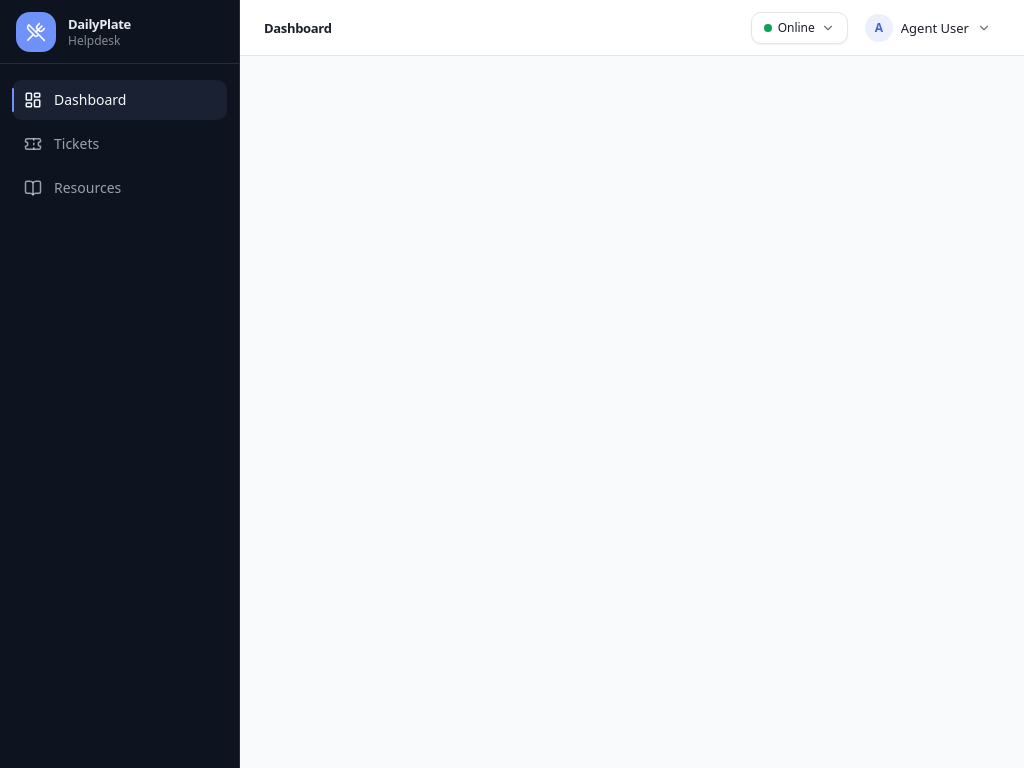
Test: AppShell › agent availability › opens a selectable status menu without Offline
What coordinates should you click on to do the following:
click the button with aria-label "availability:"
I would click on:
 (799, 28)
Its box is [751, 12, 848, 44].
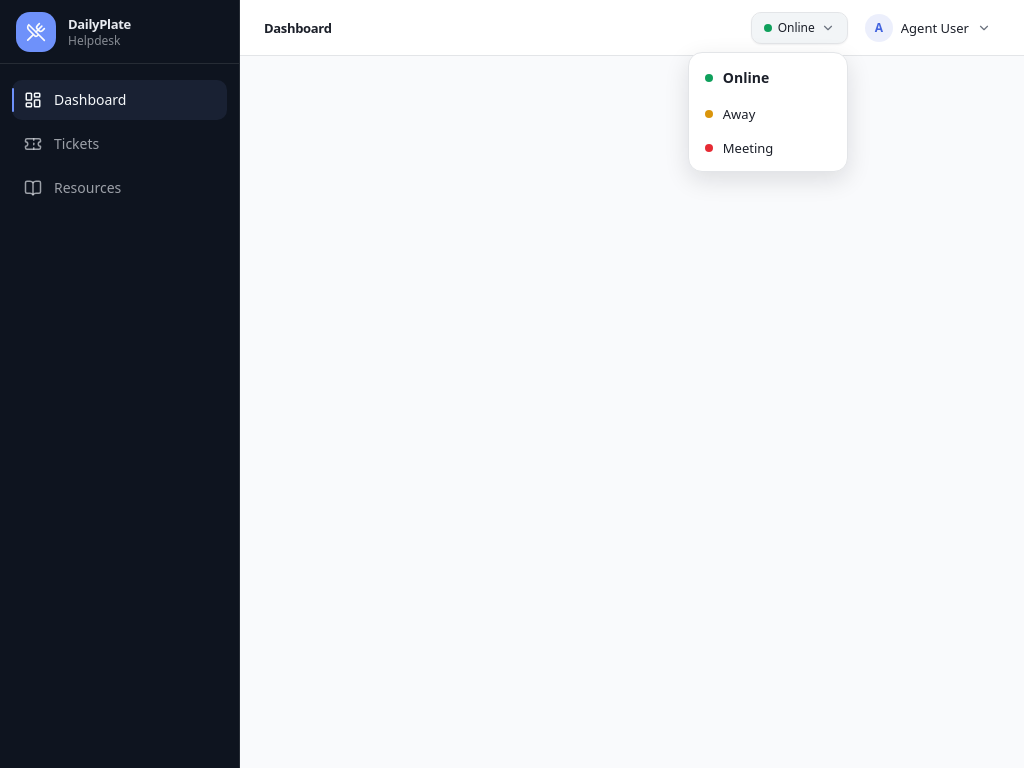
Expected: the menu item "Online" is shown, [695, 58, 841, 96]
Expected: the menu item "Away" is shown, [695, 96, 841, 130]
Expected: the menu item "Meeting" is shown, [695, 130, 841, 164]
